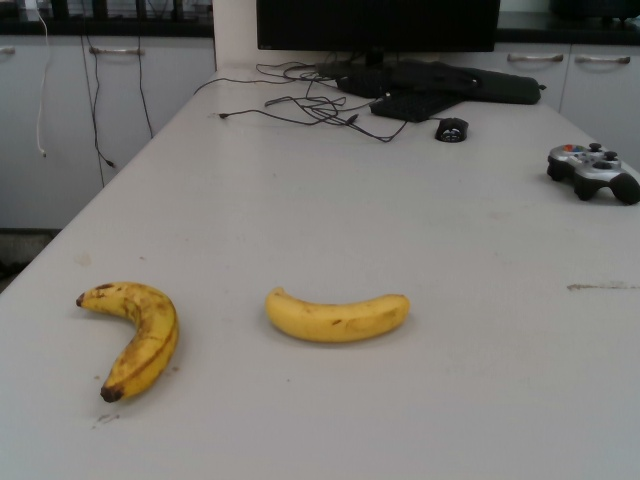banana: (77, 278, 179, 404), (264, 282, 410, 345)
